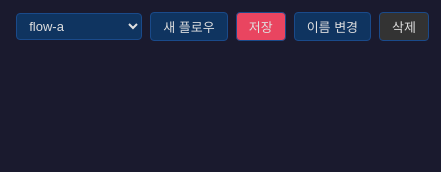
Test: FlowManager — 이름 변경 인라인 입력 모드 › 이름 변경 버튼 클릭 시 input 이 표시되고 currentFlowName 으로 초기화된다
The image size is (441, 172).
Click the button "이름 변경" at (332, 26), box x1=294 y1=12 x2=371 y2=41
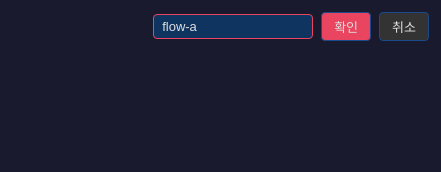
Now the field holds "flow-a", box x1=153 y1=14 x2=313 y2=39
